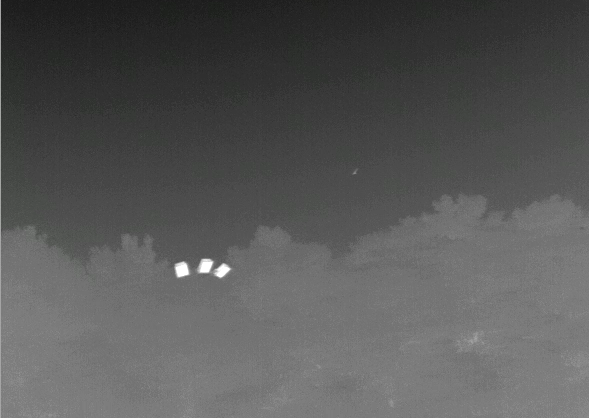dim target: (351, 168, 358, 176)
